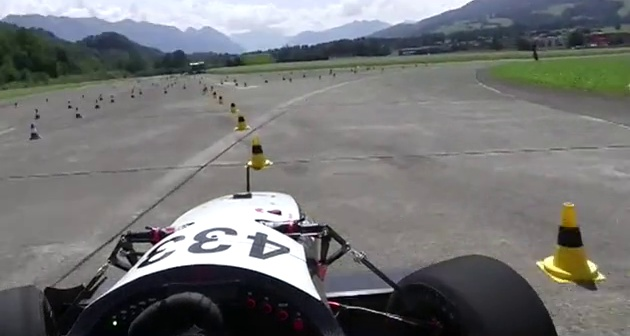Cone: (536, 199, 607, 287), (246, 131, 270, 169), (233, 107, 253, 131), (29, 122, 41, 142)
